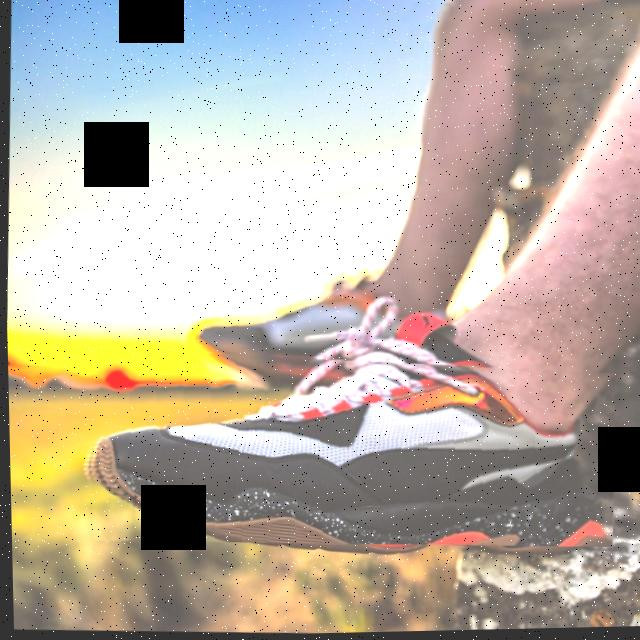shoe: (78, 338, 617, 559), (194, 275, 420, 381)
